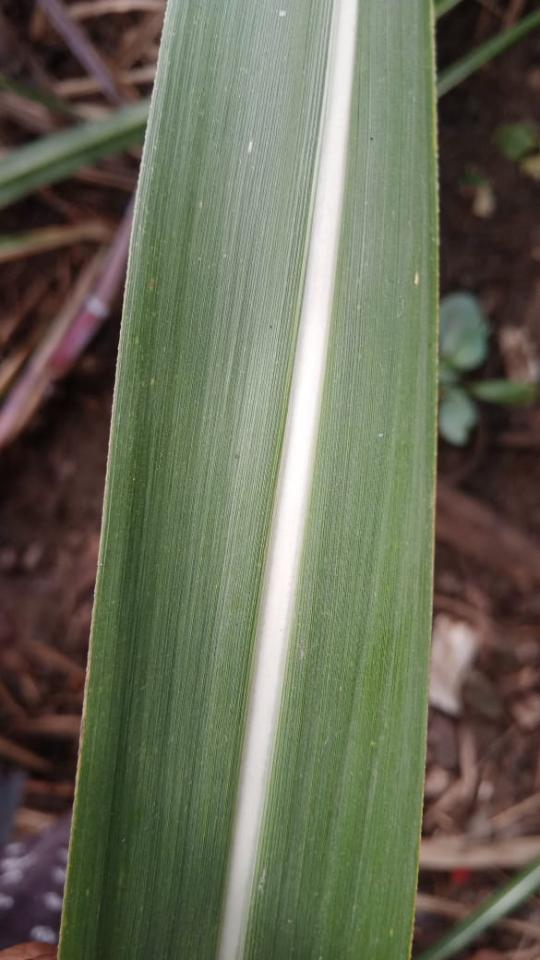Healthy: (58, 0, 439, 959)
